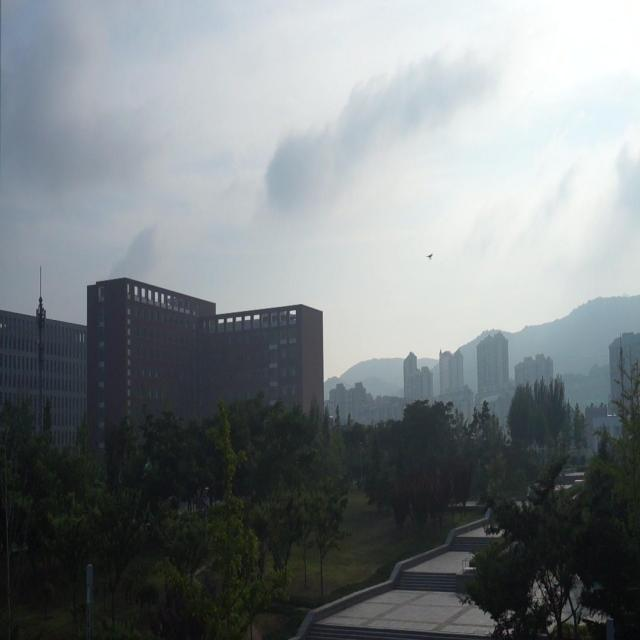UAV: (425, 253, 433, 260)
